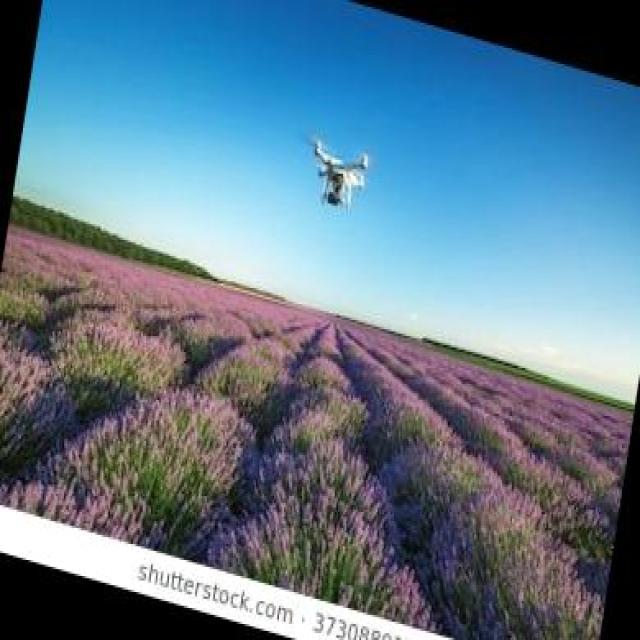drone: (298, 133, 373, 220)
